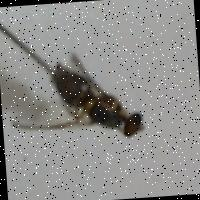Oriental-fruit-fly: (1, 41, 152, 166)
